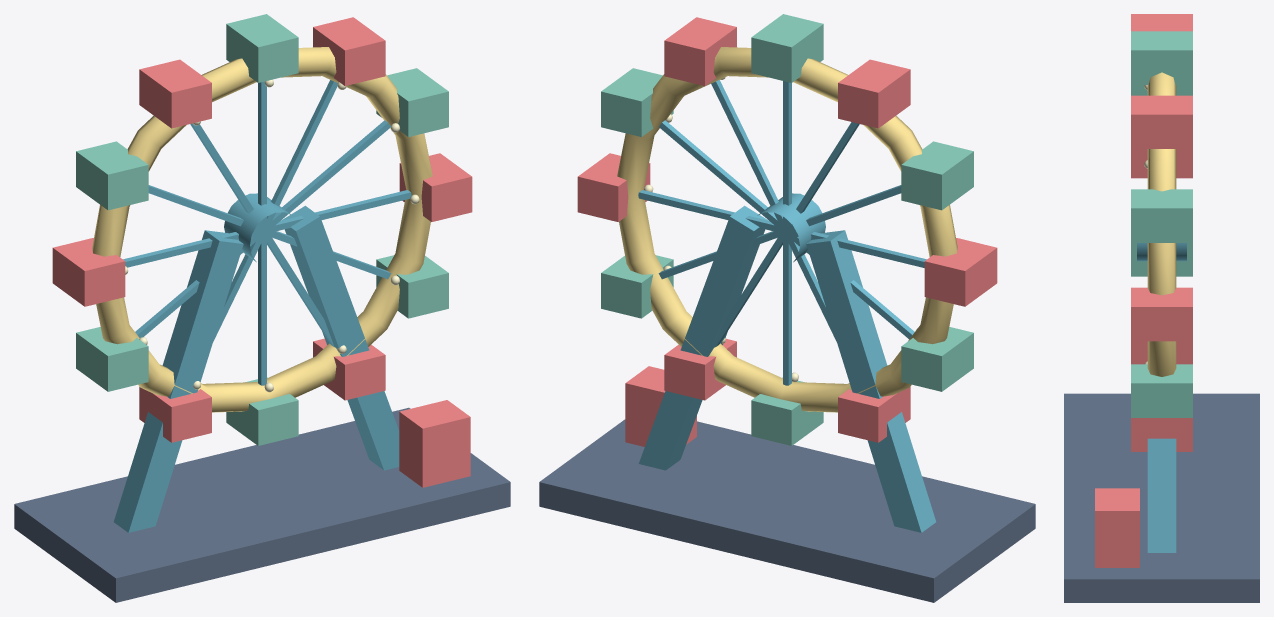
Rendered from park-ferris-wheel-pixel-16bit-3d.glb.
3 views of the same model, side by side, from view 1: azimuth 30°, elevation 25°; view 2: azimuth 150°, elevation 25°; view 3: azimuth 270°, elevation 25° (orthographic). The views are drawn at different scales.
Parts seen in each view (by area): view 1: base-platform, wheel-ring, support-a, support-b, control-box, gondola-4, gondola-5, gondola-3, gondola-6, gondola-2, gondola-7, gondola-1 (+18 smaller); view 2: base-platform, wheel-ring, support-a, support-b, gondola-4, gondola-5, gondola-3, gondola-6, gondola-2, gondola-7, gondola-1, gondola-8 (+18 smaller); view 3: base-platform, wheel-ring, control-box, support-b, gondola-2, gondola-1, gondola-0, gondola-3, gondola-11, gondola-10, gondola-4, gondola-6 (+4 smaller).
Part boxes in pixels (x1,y1,x2,y2): base-platform: (14, 407, 510, 602); wheel-ring: (92, 47, 432, 412); support-a: (114, 230, 243, 532); support-b: (281, 205, 399, 470); control-box: (399, 400, 470, 487); gondola-4: (139, 59, 211, 128); gondola-5: (76, 141, 148, 210); gondola-3: (226, 14, 298, 82); gondola-6: (52, 238, 125, 306); gondola-2: (313, 17, 385, 85); gondola-7: (76, 327, 148, 391); gondola-1: (376, 68, 448, 136); base-platform: (539, 419, 1035, 602); wheel-ring: (617, 47, 957, 412); support-a: (806, 230, 935, 532); support-b: (638, 205, 768, 470); gondola-4: (838, 59, 910, 128); gondola-5: (901, 141, 973, 210); gondola-3: (751, 14, 823, 82); gondola-6: (924, 238, 997, 306); gondola-2: (664, 17, 736, 85); gondola-7: (901, 327, 973, 391); gondola-1: (601, 68, 673, 136); gondola-8: (838, 387, 910, 442); base-platform: (1064, 393, 1259, 602); wheel-ring: (1147, 72, 1176, 376); control-box: (1095, 488, 1139, 567); support-b: (1147, 438, 1176, 552); gondola-2: (1131, 95, 1192, 148); gondola-1: (1131, 189, 1192, 242); gondola-0: (1131, 287, 1192, 341); gondola-3: (1131, 31, 1192, 84); gondola-11: (1131, 364, 1192, 417); gondola-10: (1131, 418, 1192, 451); gondola-4: (1131, 14, 1192, 31); gondola-6: (1131, 149, 1192, 178).
Size of the model in its own units: 7.4 by 8.89 by 3.3.
